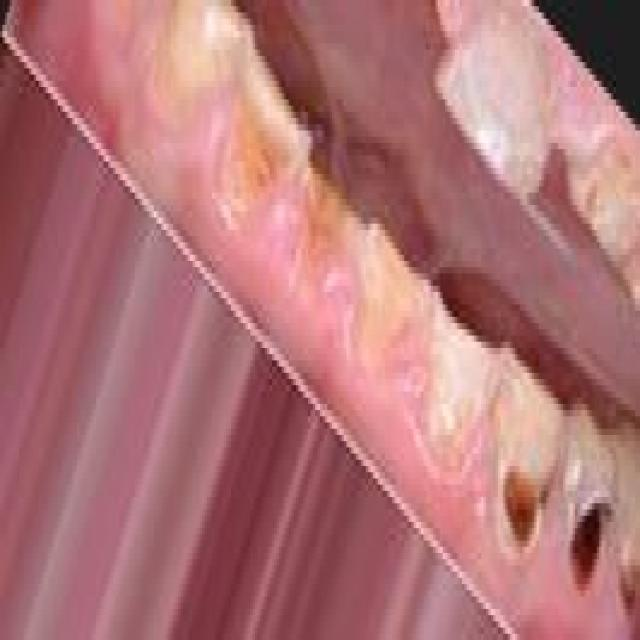caries: (212, 45, 310, 226), (489, 347, 556, 572), (348, 209, 428, 377), (560, 389, 622, 598), (570, 127, 640, 287), (293, 156, 358, 296)
